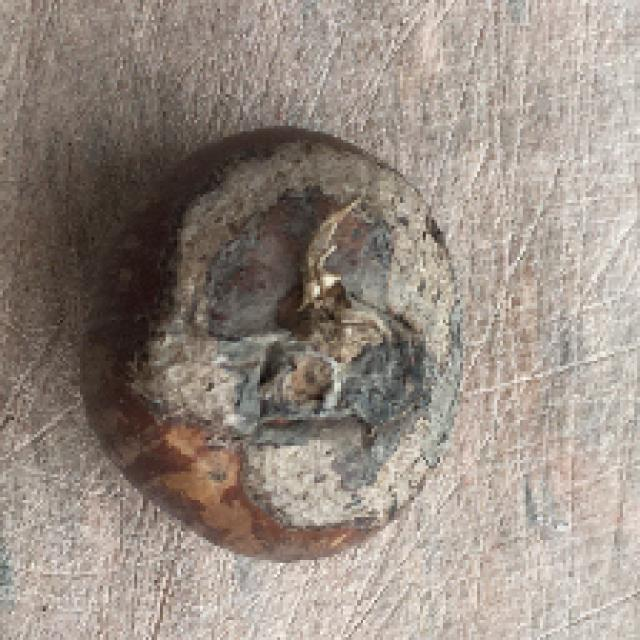damagedHazelnut: (74, 121, 467, 566)
